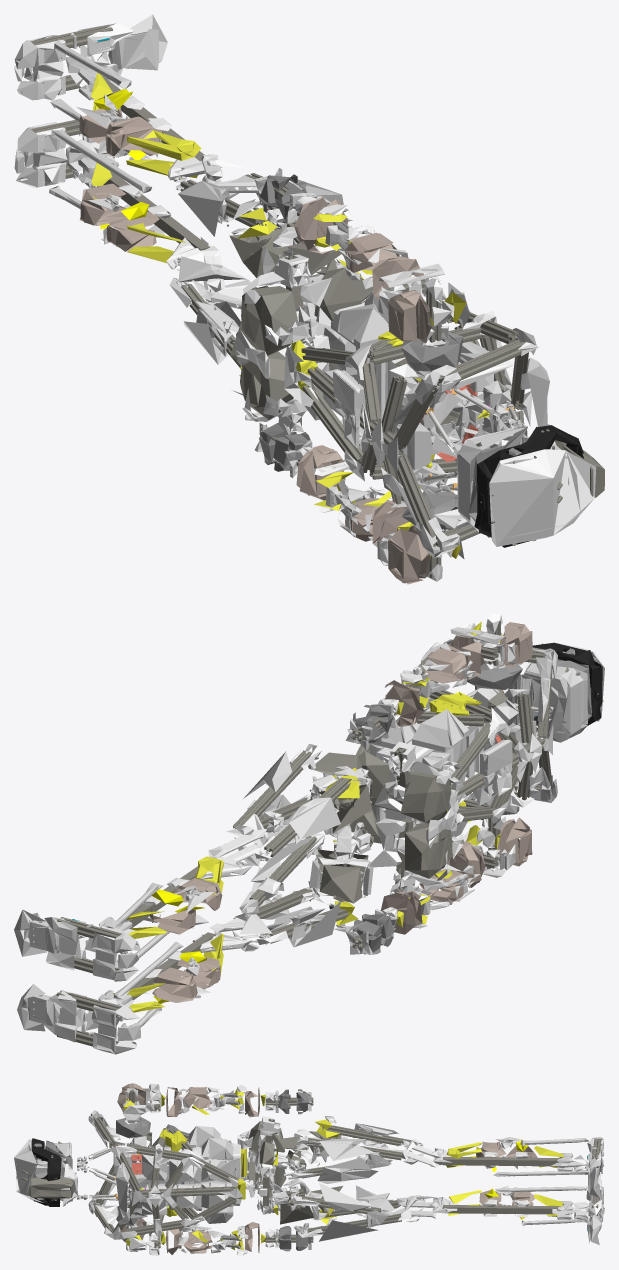
The model's file is dropbear-usd-browser.glb.
3 views of the same model, one above another, from view 1: azimuth 30°, elevation 25°; view 2: azimuth 150°, elevation 25°; view 3: azimuth 270°, elevation 25° (orthographic). The views are drawn at different scales.
Visible parts, largest first — view 1: BODY__world__1, BODY__world__3, BODY__world__2, BODY__head_u_joint_center__8__1__1, BODY__LL_skateboard_bearing_left_2__1, BODY__LL_skateboard_bearing_left_2__0, BODY__RL_double_bracket_10deg_MIR_MIR_MIR_1__2, BODY__head_u_joint_center__8__1__4, BODY__world__4, BODY__LH_RMD_X8_Pro_MIR8_MIR1__3__1__0, BODY__RL_RMD_X10_S2_MIR4Rotor_1__2, BODY__PG_RMD_X10_S2_MIR4__2_Rotor_1__1 (+32 smaller); view 2: BODY__world__1, BODY__world__3, BODY__world__2, BODY__head_u_joint_center__8__1__0, BODY__LL_skateboard_bearing_left_2__0, BODY__RL_skateboard_bearing_left_2__0, BODY__RL_double_bracket_10deg_MIR_MIR_MIR_1__2, BODY__LL_skateboard_bearing_left_2__1, BODY__LH_RMD_X8_Pro_MIR8_MIR1__3__1__0, BODY__RL_skateboard_bearing_left_2__1, BODY__PG_RMD_X10_S2_MIR4__1_Rotor_1__1, BODY__RL_RMD_X10_S2_MIR4__3_Stator_1__0 (+38 smaller); view 3: BODY__world__3, BODY__world__1, BODY__world__2, BODY__LL_bearingstrap_inner_thigh_1__2, BODY__head_u_joint_center__8__1__1, BODY__RL_bearingstrap_inner_thigh_1__2, BODY__LL_double_bracket_10deg_MIR_MIR_MIR_1__1, BODY__head_u_joint_center__8__1__2, BODY__RL_double_bracket_10deg_MIR_MIR_MIR_1__1, BODY__head_u_joint_center__8__1__4, BODY__world__4, BODY__LH_RMD_X8_Pro_MIR8_MIR1__3__1__0 (+50 smaller).
Boxes of the visible parts, x1,y1,x2,y2 form: BODY__world__1: (240,285,528,546); BODY__world__3: (242,290,549,557); BODY__world__2: (235,303,538,529); BODY__head_u_joint_center__8__1__1: (489,424,596,546); BODY__LL_skateboard_bearing_left_2__1: (29,23,158,100); BODY__LL_skateboard_bearing_left_2__0: (14,14,167,100); BODY__RL_double_bracket_10deg_MIR_MIR_MIR_1__2: (80,183,159,251); BODY__head_u_joint_center__8__1__4: (474,425,583,547); BODY__world__4: (401,332,463,529); BODY__LH_RMD_X8_Pro_MIR8_MIR1__3__1__0: (345,232,423,298); BODY__RL_RMD_X10_S2_MIR4Rotor_1__2: (183,279,240,364); BODY__PG_RMD_X10_S2_MIR4__2_Rotor_1__1: (274,254,373,341); BODY__world__1: (355,641,552,878); BODY__world__3: (323,647,557,880); BODY__world__2: (322,639,553,858); BODY__head_u_joint_center__8__1__0: (507,662,587,742); BODY__LL_skateboard_bearing_left_2__0: (14,909,140,981); BODY__RL_skateboard_bearing_left_2__0: (17,984,140,1054); BODY__RL_double_bracket_10deg_MIR_MIR_MIR_1__2: (152,956,220,1002); BODY__LL_skateboard_bearing_left_2__1: (32,912,124,970); BODY__LH_RMD_X8_Pro_MIR8_MIR1__3__1__0: (424,635,485,683); BODY__RL_skateboard_bearing_left_2__1: (27,989,124,1054); BODY__PG_RMD_X10_S2_MIR4__1_Rotor_1__1: (330,818,416,892); BODY__RL_RMD_X10_S2_MIR4__3_Stator_1__0: (316,850,368,903); BODY__world__3: (88,1110,269,1224); BODY__world__1: (93,1116,286,1235); BODY__world__2: (95,1124,272,1239); BODY__LL_bearingstrap_inner_thigh_1__2: (317,1152,392,1183); BODY__head_u_joint_center__8__1__1: (14,1139,78,1206); BODY__RL_bearingstrap_inner_thigh_1__2: (319,1183,392,1227); BODY__LL_double_bracket_10deg_MIR_MIR_MIR_1__1: (442,1157,560,1166); BODY__head_u_joint_center__8__1__2: (21,1141,73,1201); BODY__RL_double_bracket_10deg_MIR_MIR_MIR_1__1: (442,1205,569,1214); BODY__head_u_joint_center__8__1__4: (31,1138,61,1206); BODY__world__4: (116,1116,150,1225); BODY__LH_RMD_X8_Pro_MIR8_MIR1__3__1__0: (166,1086,211,1116).
Size of the model in its own units: 0.443 by 0.5747 by 1.87.
